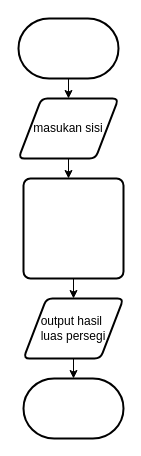
Some shapes in this 141 by 456 pixel diagram are drawn without their labels. Here are the shapes that lost their labels. From the top down, the centre of each, then its label:
At [68,48]: "mulai".
At [73,228]: "L= sisi * sisi".
